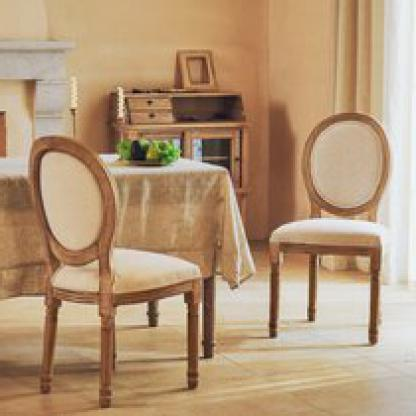chair: (24, 132, 208, 411), (255, 108, 397, 345)
